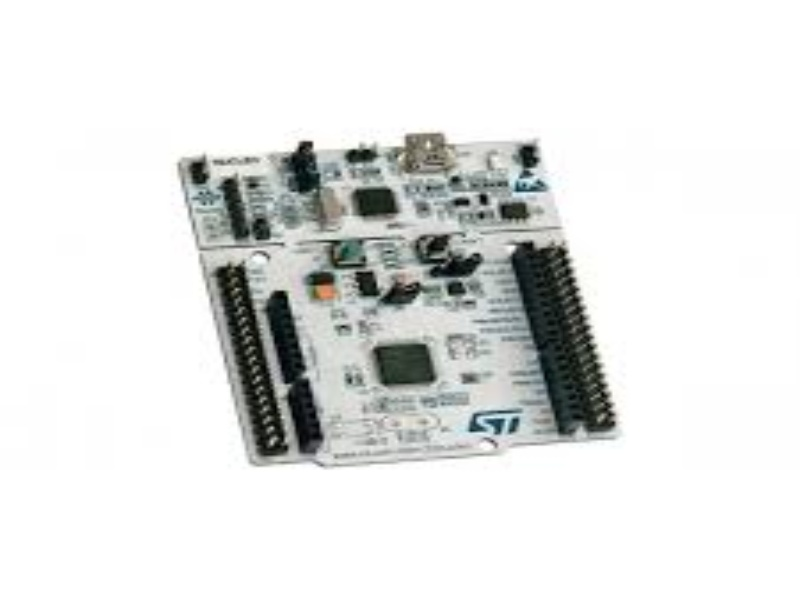stmnucleo: (173, 120, 631, 465)
